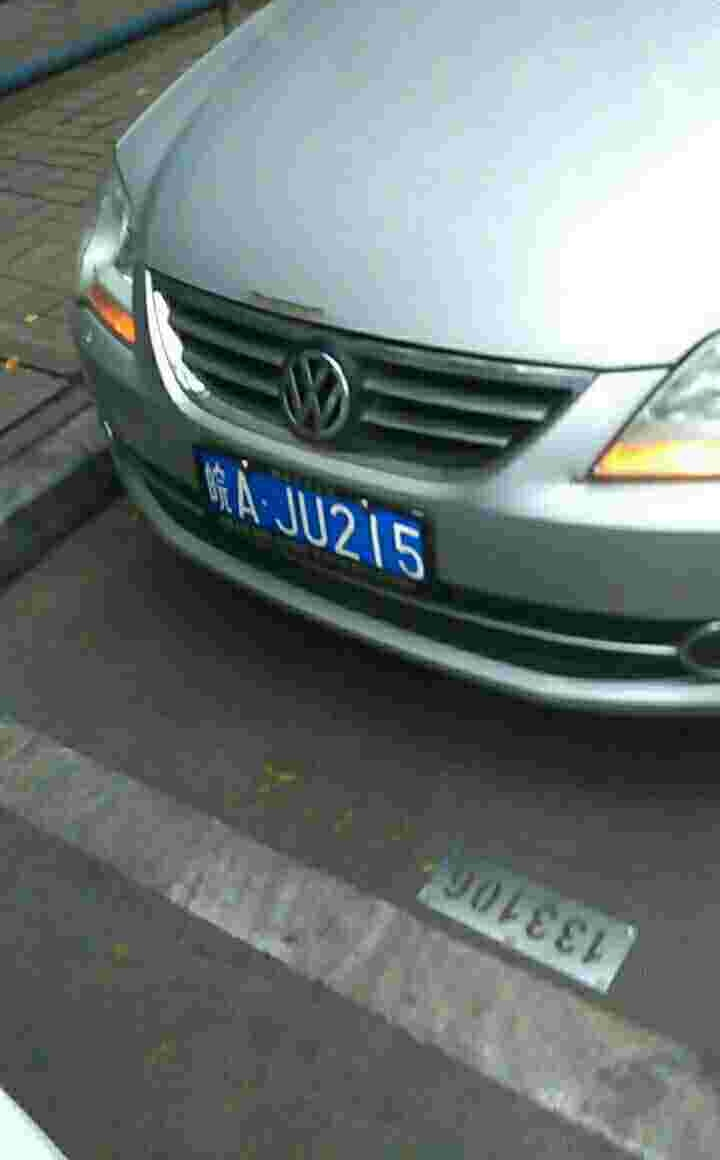license_plate: (197, 452, 429, 584)
